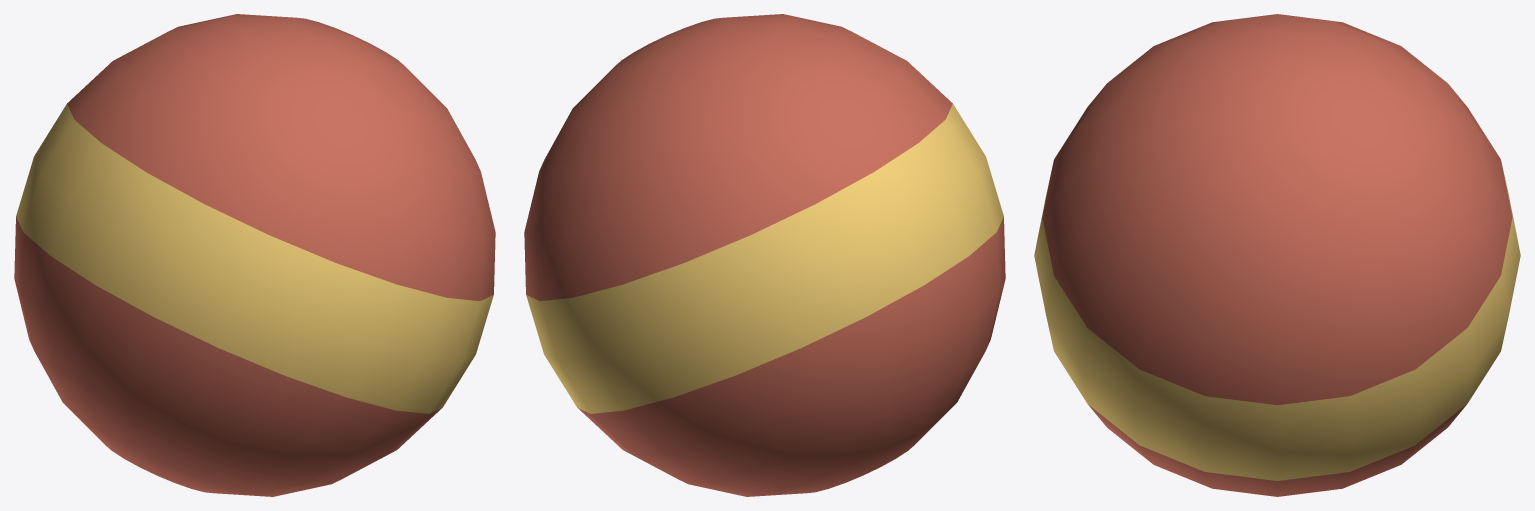
File: ball_bouncy.glb
3 renders of one model, left to right at view 1: azimuth 30°, elevation 25°; view 2: azimuth 150°, elevation 25°; view 3: azimuth 270°, elevation 25°, orthographic.
Visible parts, largest first — view 1: ball_bouncy; view 2: ball_bouncy; view 3: ball_bouncy.
Boxes of the visible parts, x1,y1,x2,y2 form: ball_bouncy: (14,14,495,496); ball_bouncy: (524,14,1005,496); ball_bouncy: (1034,14,1520,496).
Bounding box in the file's own units: 0.065 × 0.065 × 0.065.
